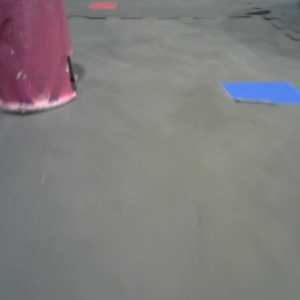middle: (1, 1, 79, 94)
